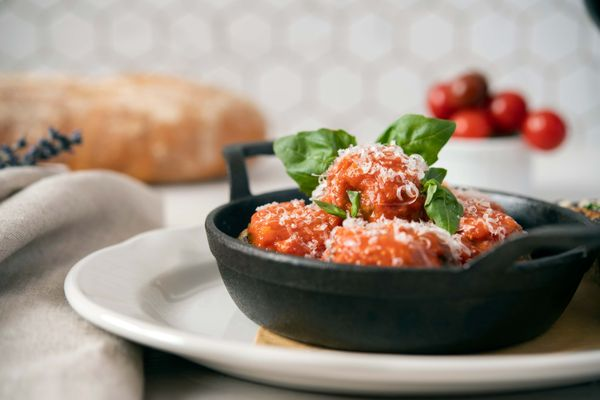sushi: (203, 175, 597, 355)
